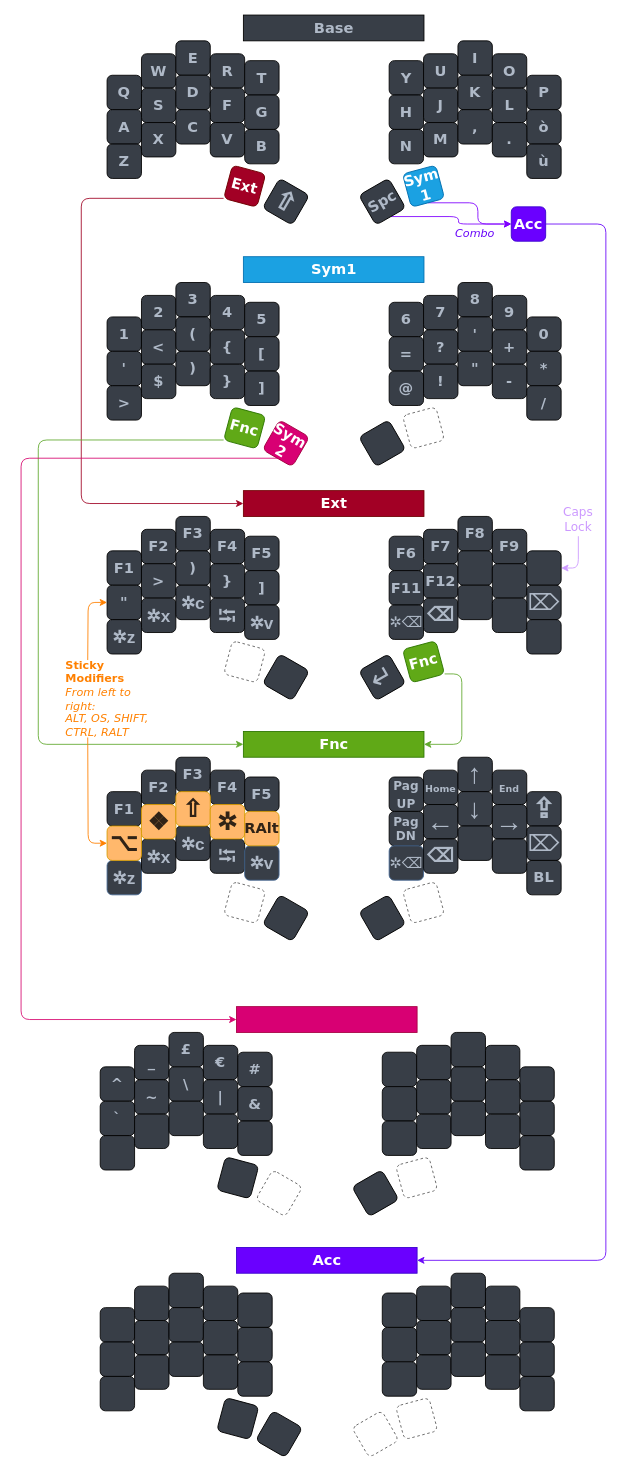
This 628x1473 diagram has some shape labels left out. Each missing label, with the box of its shape:
F10: (526, 550, 561, 585)
Sym2: (236, 1006, 417, 1032)
